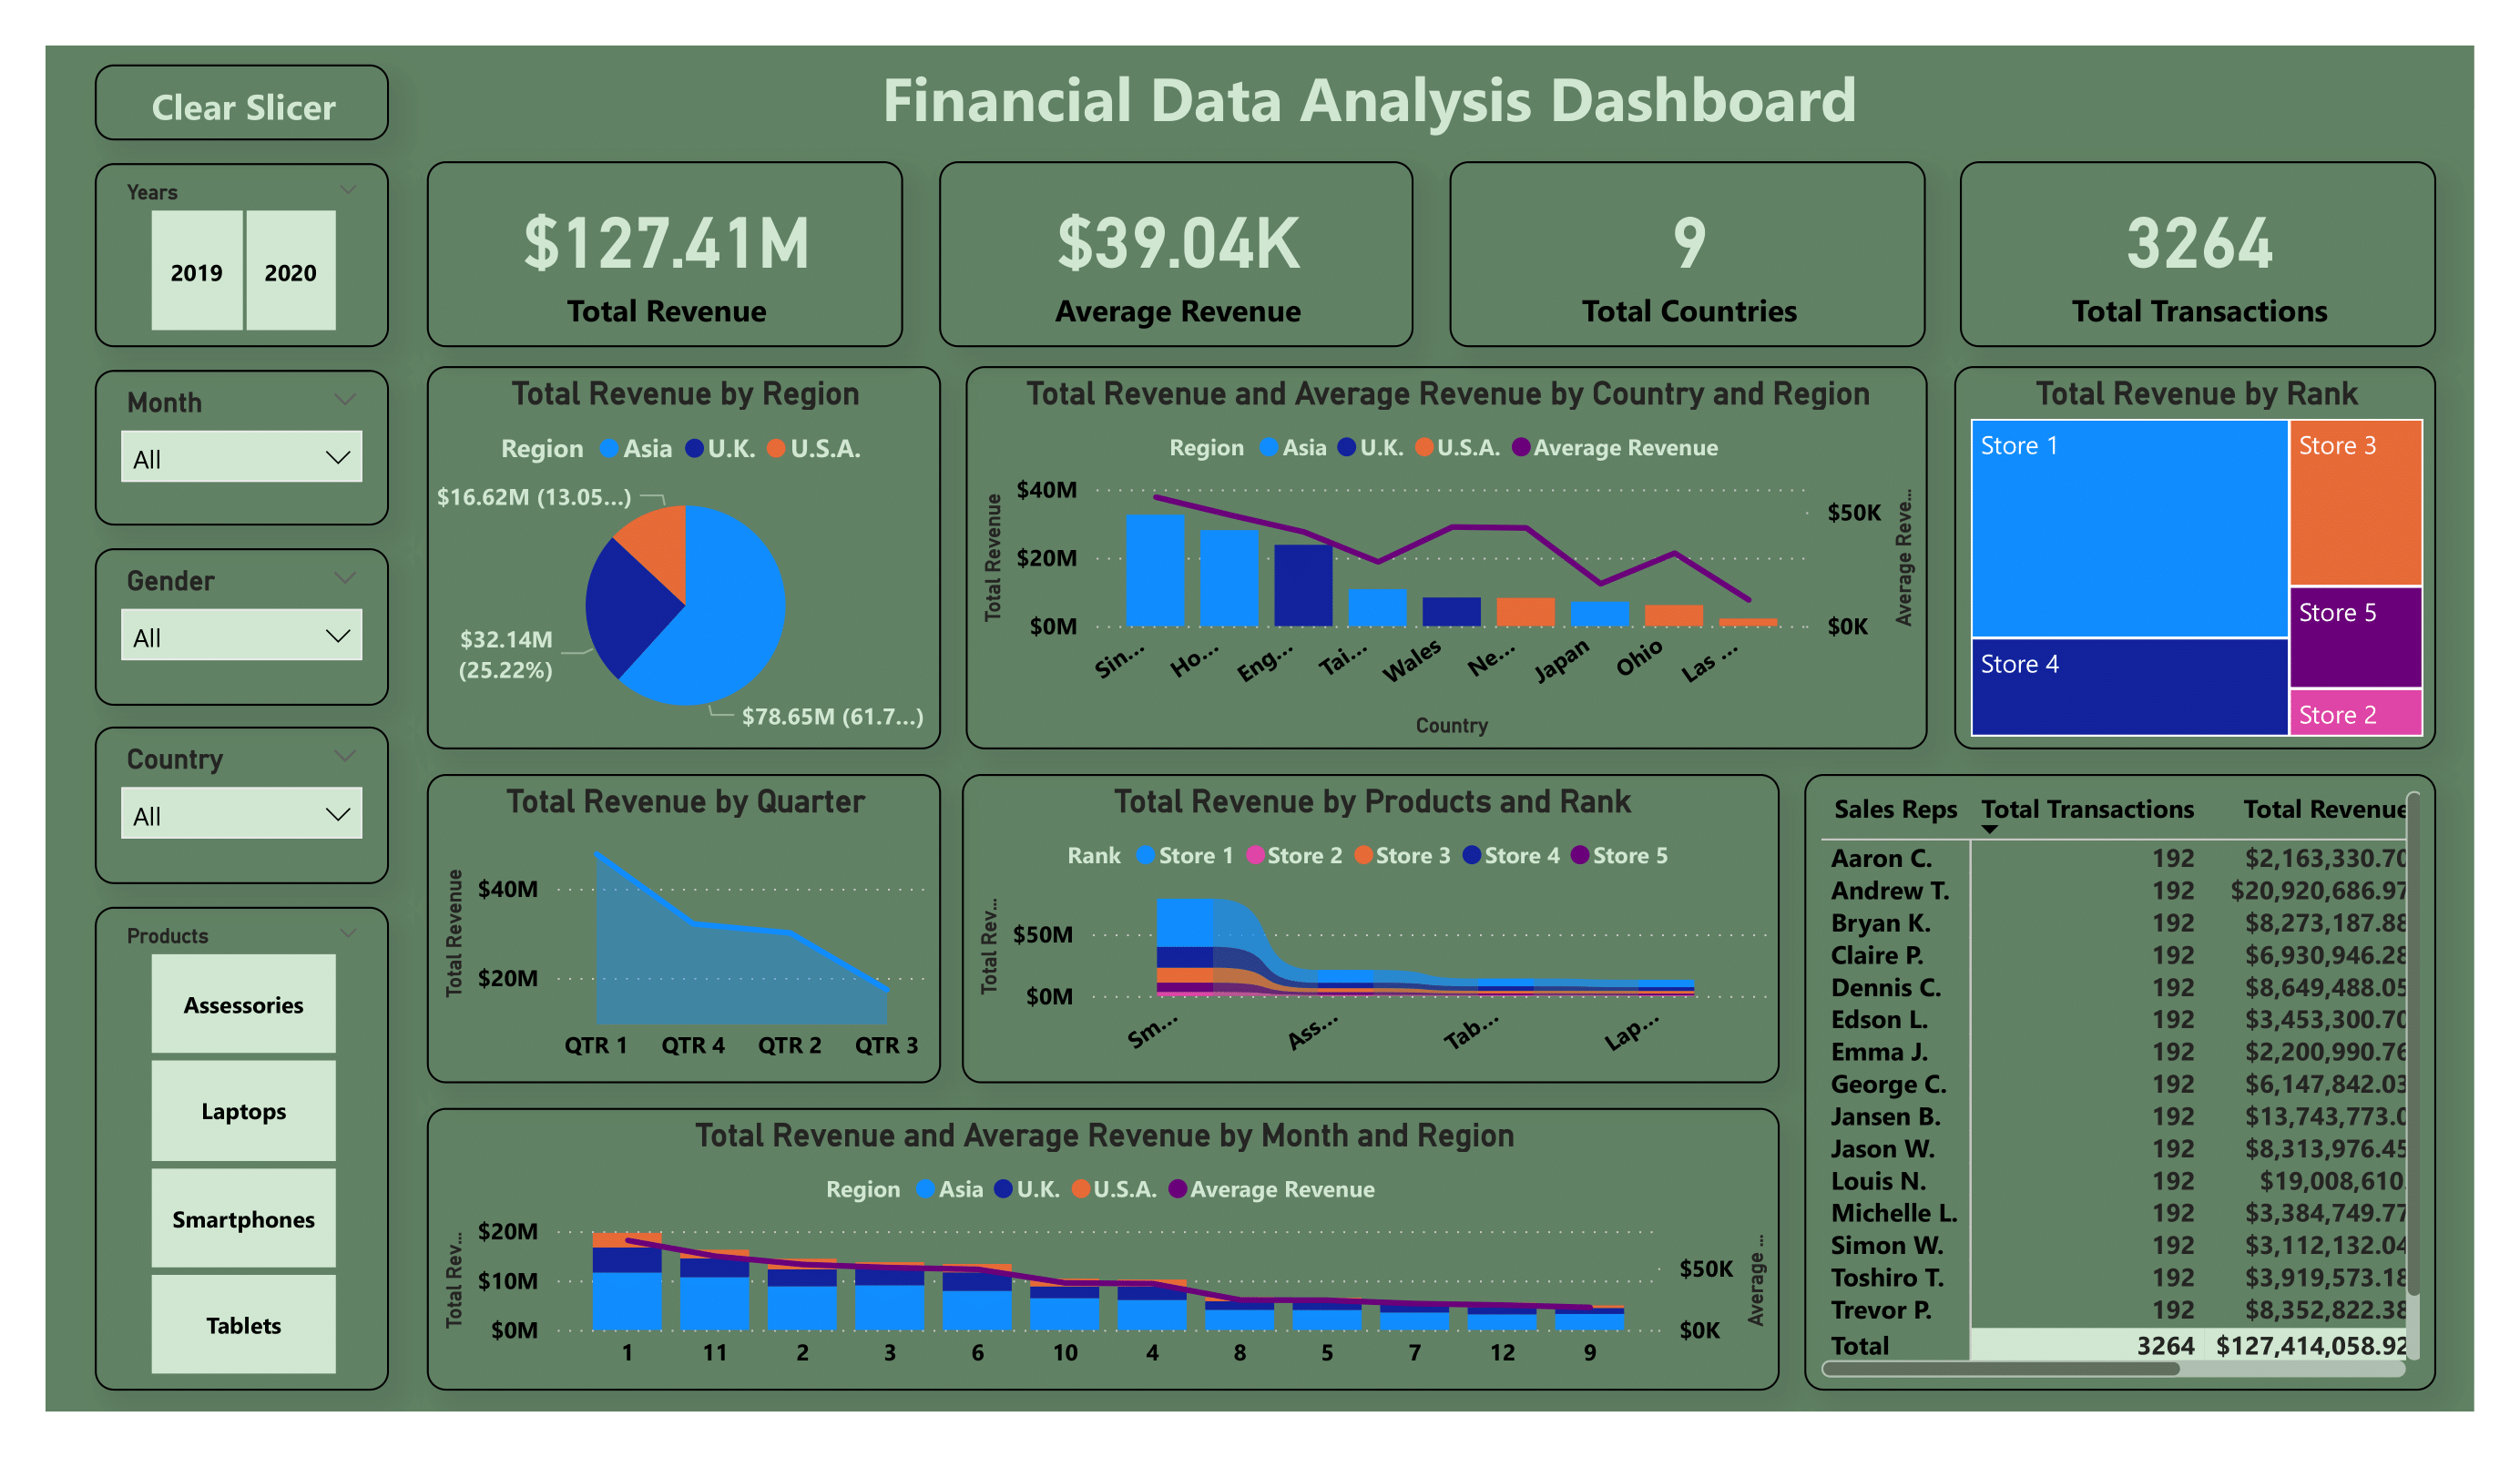

Layout of this report page (visuals, bound fields, positions):
{"tool":"powerbi","page":{"name":"Page 1","canvas":[1280,720],"ordinal":0},"visuals":[{"type":"textbox","box":[428,0,540,58.1],"z":0},{"type":"card","fields":{"Values":["Measures Table.Total Revenue"]},"box":[201.3,60.9,250.9,97.8],"z":1000},{"type":"pieChart","fields":{"Y":["Measures Table.Total Revenue"],"Category":["data.Region"]},"box":[201.3,168.7,270.7,202.7],"z":2000},{"type":"areaChart","fields":{"Y":["Measures Table.Total Revenue"],"Category":["data.Quarter"]},"box":[201.3,384.1,270.7,163],"z":3000},{"type":"lineStackedColumnComboChart","fields":{"Category":["data.Country"],"Y":["Measures Table.Total Revenue"],"Series":["data.Region"],"Y2":["Measures Table.Average Revenue"]},"box":[484.7,168.7,507.4,202.7],"z":4000},{"type":"ribbonChart","fields":{"Y":["Measures Table.Total Revenue"],"Category":["data.Products"],"Series":["data.Rank"]},"box":[483.3,384.1,430.9,163],"z":5000},{"type":"treemap","fields":{"Values":["Measures Table.Total Revenue"],"Group":["data.Rank"]},"box":[1006.3,168.7,253.7,202.7],"z":6000},{"type":"pivotTable","fields":{"Rows":["data.Sales Reps"],"Values":["Measures Table.Total Transactions","Measures Table.Total Revenue","Measures Table.Average Revenue"]},"box":[926.9,384.1,333.1,324.6],"z":7000},{"type":"lineStackedColumnComboChart","fields":{"Y":["Measures Table.Total Revenue"],"Series":["data.Region"],"Y2":["Measures Table.Average Revenue"],"Category":["data.Month"]},"box":[201.3,559.8,712.9,148.8],"z":8000},{"type":"card","fields":{"Values":["Measures Table.Average Revenue"]},"box":[470.6,60.9,250.9,97.8],"z":9000},{"type":"card","fields":{"Values":["Measures Table.Total Countries"]},"box":[739.8,60.9,250.9,97.8],"z":10000},{"type":"card","fields":{"Values":["Measures Table.Total Transactions"]},"box":[1009.1,60.9,250.9,97.8],"z":11000},{"type":"slicer","fields":{"Values":["data.Years"]},"box":[25.5,61.5,155.9,97.8],"z":12000},{"type":"slicer","fields":{"Values":["data.Products"]},"box":[25.5,453.5,155.9,255.1],"z":13000},{"type":"slicer","fields":{"Values":["data.Country"]},"box":[25.5,359.4,155.9,82.2],"z":15000},{"type":"actionButton","title":"Clear","box":[25.5,9.9,155.9,39.7],"z":16000},{"type":"slicer","fields":{"Values":["data.Gender"]},"box":[25.5,265.3,155.9,82.2],"z":16001},{"type":"slicer","fields":{"Values":["data.Month"]},"box":[25.5,171.2,155.9,82.2],"z":16002}]}

Visuals, with their boxes on the page's 1280x720 design canvas (x1, y1, x2, y2). These are canvas units, not pixel positions in the 2520x1457 screenshot, which may show the page scaled, cropped or inside an application window:
textbox: (left=428, top=0, right=968, bottom=58)
card - Measures Table.Total Revenue: (left=201, top=61, right=452, bottom=159)
pieChart - Measures Table.Total Revenue x data.Region: (left=201, top=169, right=472, bottom=371)
areaChart - Measures Table.Total Revenue x data.Quarter: (left=201, top=384, right=472, bottom=547)
lineStackedColumnComboChart - data.Country x Measures Table.Total Revenue: (left=485, top=169, right=992, bottom=371)
ribbonChart - Measures Table.Total Revenue x data.Products: (left=483, top=384, right=914, bottom=547)
treemap - Measures Table.Total Revenue x data.Rank: (left=1006, top=169, right=1260, bottom=371)
pivotTable - data.Sales Reps x Measures Table.Total Transactions: (left=927, top=384, right=1260, bottom=709)
lineStackedColumnComboChart - Measures Table.Total Revenue x data.Region: (left=201, top=560, right=914, bottom=709)
card - Measures Table.Average Revenue: (left=471, top=61, right=722, bottom=159)
card - Measures Table.Total Countries: (left=740, top=61, right=991, bottom=159)
card - Measures Table.Total Transactions: (left=1009, top=61, right=1260, bottom=159)
slicer - data.Years: (left=26, top=62, right=181, bottom=159)
slicer - data.Products: (left=26, top=454, right=181, bottom=709)
slicer - data.Country: (left=26, top=359, right=181, bottom=442)
"Clear" actionButton: (left=26, top=10, right=181, bottom=50)
slicer - data.Gender: (left=26, top=265, right=181, bottom=348)
slicer - data.Month: (left=26, top=171, right=181, bottom=253)
